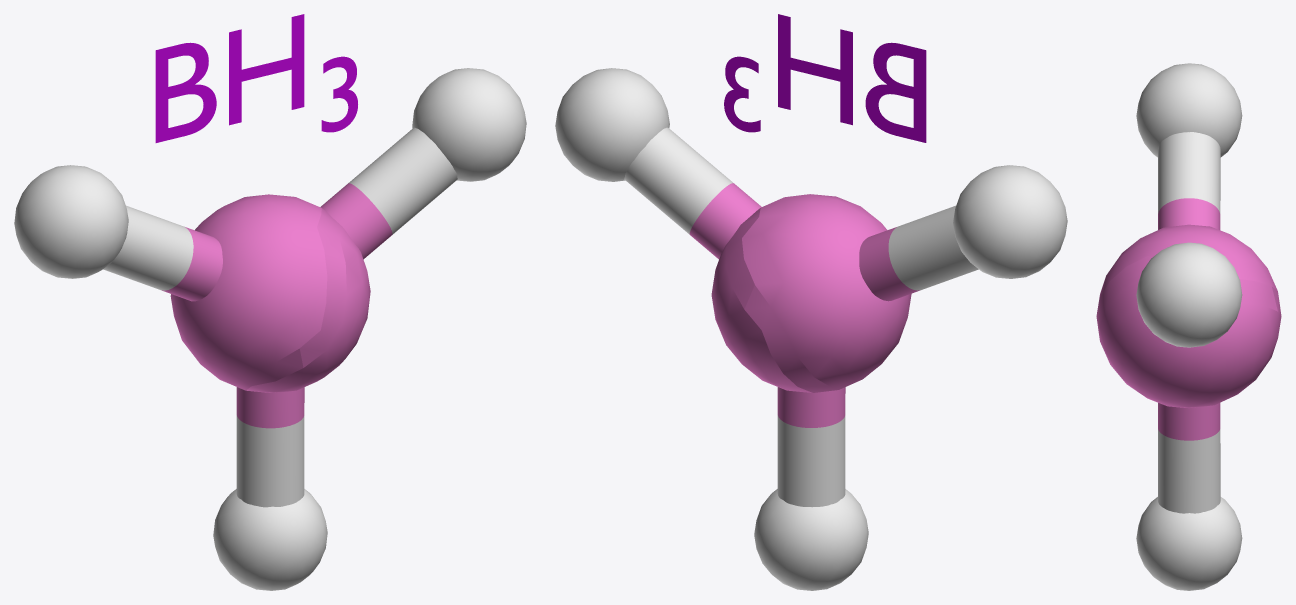
The picture shows the model from 3 angles, left to right: view 1: azimuth 30°, elevation 25°; view 2: azimuth 150°, elevation 25°; view 3: azimuth 270°, elevation 25°; orthographic projection. The views are drawn at different scales.
Parts seen in each view (by area): view 1: Shape_IndexedFaceSet.008, Shape_IndexedFaceSet.001, Shape_IndexedFaceSet.002, Shape_IndexedFaceSet.003, Text, Text.001; view 2: Shape_IndexedFaceSet.008, Shape_IndexedFaceSet.001, Shape_IndexedFaceSet.002, Shape_IndexedFaceSet.003, Text, Text.001; view 3: Shape_IndexedFaceSet.008, Shape_IndexedFaceSet.003, Shape_IndexedFaceSet.002, Shape_IndexedFaceSet.001.
Part boxes in pixels (bbox=[...]): Shape_IndexedFaceSet.008: bbox=[162, 183, 392, 428]; Shape_IndexedFaceSet.001: bbox=[348, 68, 526, 234]; Shape_IndexedFaceSet.002: bbox=[14, 165, 193, 290]; Shape_IndexedFaceSet.003: bbox=[213, 415, 327, 590]; Text: bbox=[155, 14, 304, 142]; Text.001: bbox=[321, 56, 357, 132]; Shape_IndexedFaceSet.008: bbox=[689, 183, 919, 427]; Shape_IndexedFaceSet.001: bbox=[555, 68, 733, 234]; Shape_IndexedFaceSet.002: bbox=[888, 165, 1067, 290]; Shape_IndexedFaceSet.003: bbox=[754, 415, 868, 590]; Text: bbox=[778, 14, 926, 142]; Text.001: bbox=[724, 56, 760, 132]; Shape_IndexedFaceSet.008: bbox=[1096, 198, 1281, 440]; Shape_IndexedFaceSet.003: bbox=[1136, 429, 1242, 590]; Shape_IndexedFaceSet.002: bbox=[1136, 63, 1242, 213]; Shape_IndexedFaceSet.001: bbox=[1136, 242, 1242, 347].
Size of the model in its own units: 25.32 by 27.44 by 8.84.
